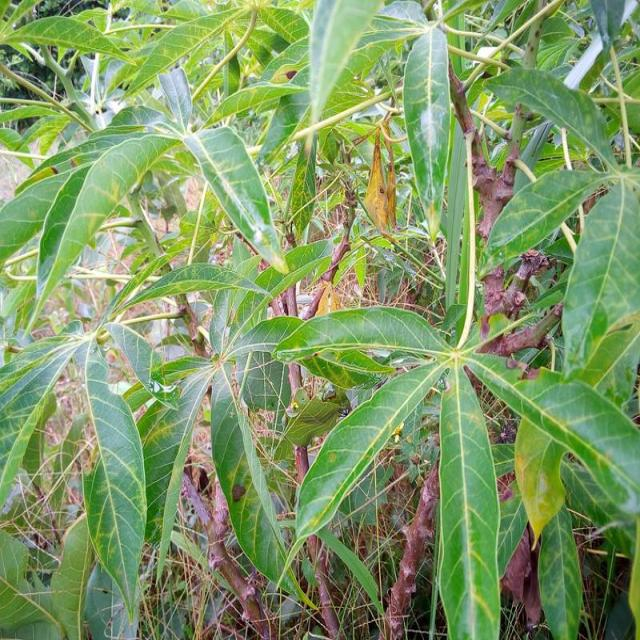cassava leaf: (0, 1, 638, 638), (81, 336, 147, 625), (436, 359, 501, 638), (402, 25, 451, 241)
